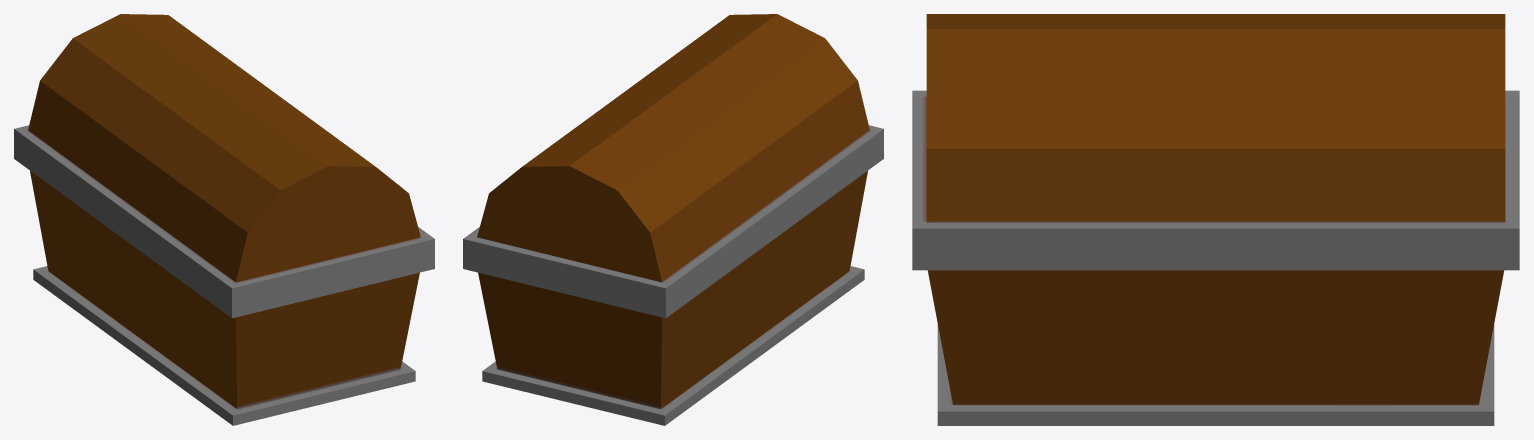
The model's file is Chest.fbx.
3 views of the same model, side by side, from view 1: azimuth 30°, elevation 25°; view 2: azimuth 150°, elevation 25°; view 3: azimuth 270°, elevation 25° (orthographic). The views are drawn at different scales.
Visible parts, largest first — view 1: Chest; view 2: Chest; view 3: Chest.
Boxes of the visible parts, box(x1,y1,x2,y2) form: Chest: box(14, 14, 434, 425); Chest: box(463, 14, 883, 425); Chest: box(912, 14, 1519, 425).
Bounding box in the file's own units: 49.63 × 56.24 × 92.38.
Materials: 2 (2 with a texture image).
